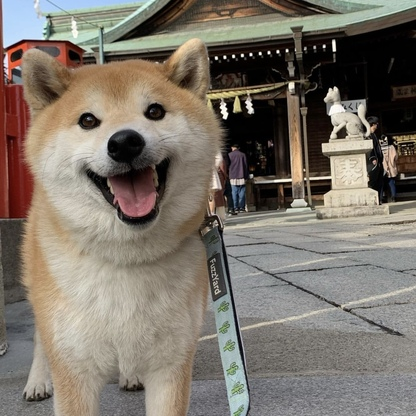shiba: (14, 34, 228, 416)
